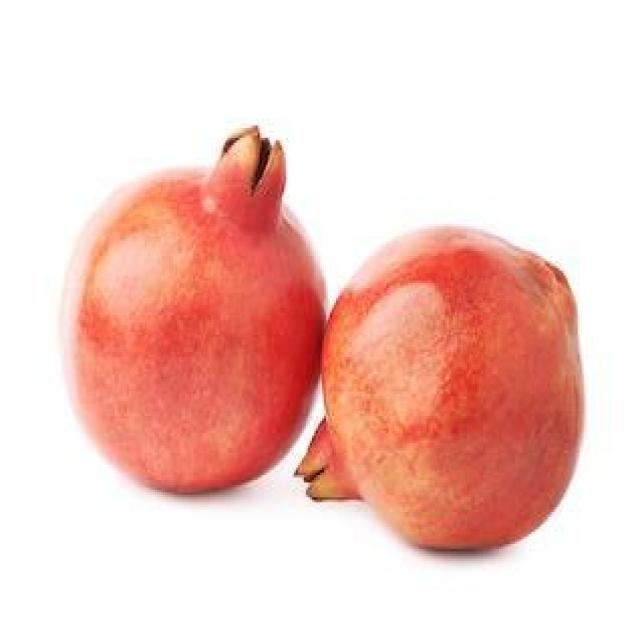Pomegranate: (62, 121, 328, 496), (296, 220, 586, 554)
